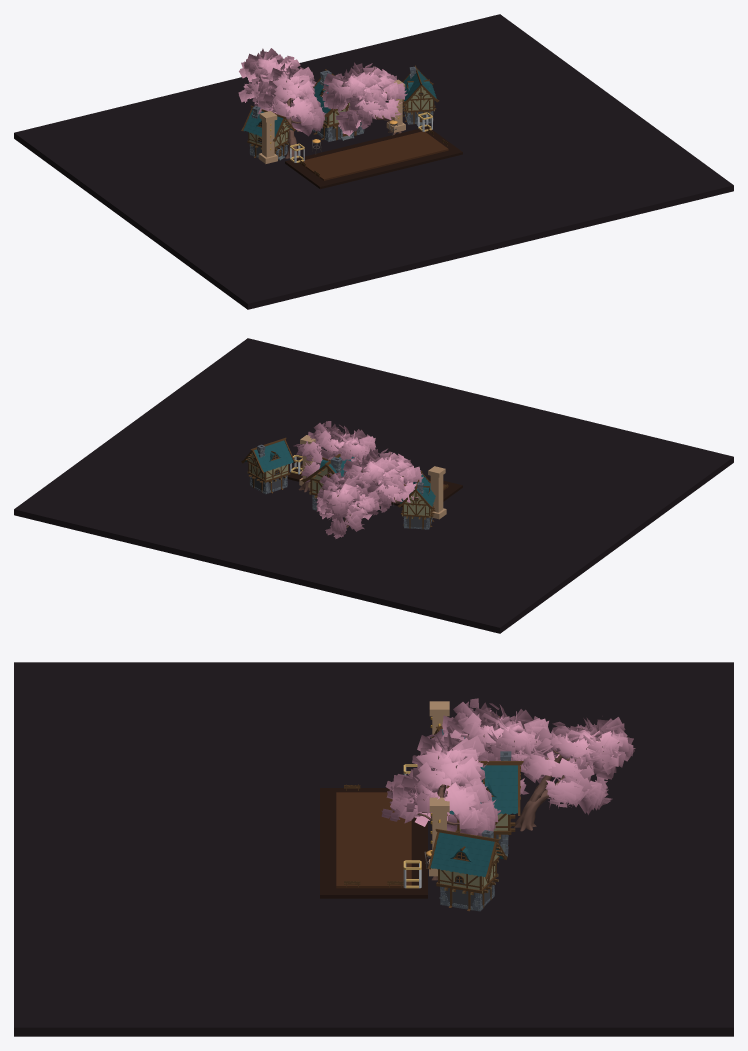
The model's file is honmaru_dojo.glb.
The picture shows the model from 3 angles, top to bottom: view 1: azimuth 30°, elevation 25°; view 2: azimuth 150°, elevation 25°; view 3: azimuth 270°, elevation 25°; orthographic projection. The views are drawn at different scales.
Parts seen in each view (by area): view 1: mesh 1, mesh 0; view 2: mesh 1; view 3: mesh 1, mesh 0.
Part boxes in pixels (bbox=[...]): mesh 1: bbox=[14, 14, 733, 309]; mesh 0: bbox=[299, 131, 448, 180]; mesh 1: bbox=[14, 338, 733, 633]; mesh 1: bbox=[14, 662, 733, 1036]; mesh 0: bbox=[336, 792, 411, 888].
Bounding box in the file's own units: 48 × 7.16 × 40.
